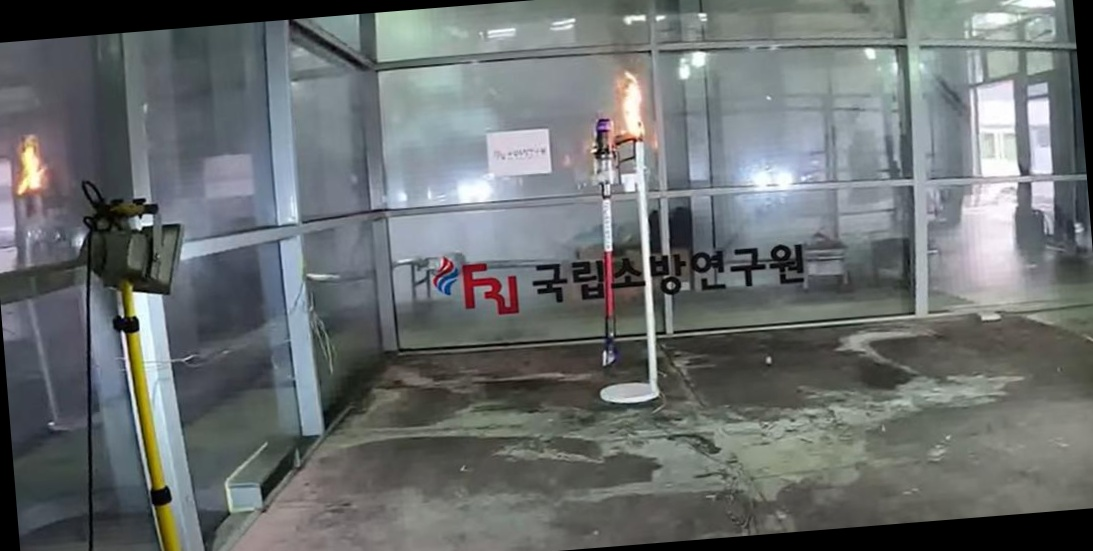fire: (600, 48, 683, 164), (3, 120, 70, 213)
